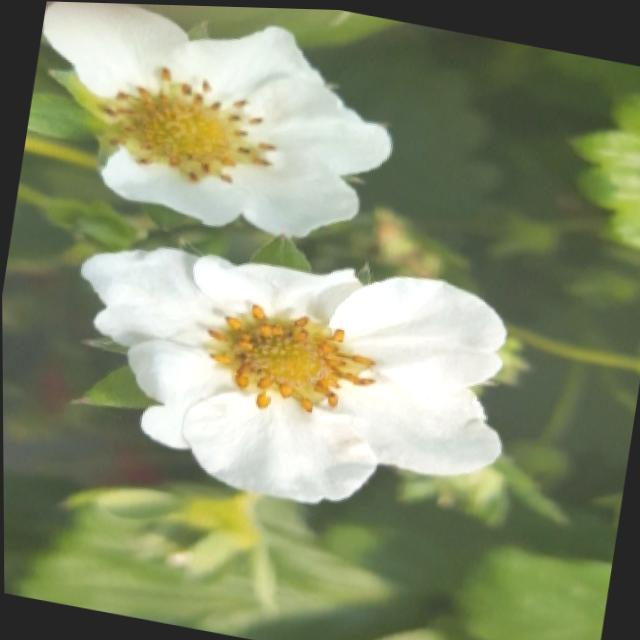Blossom Blight: (90, 58, 281, 188)
